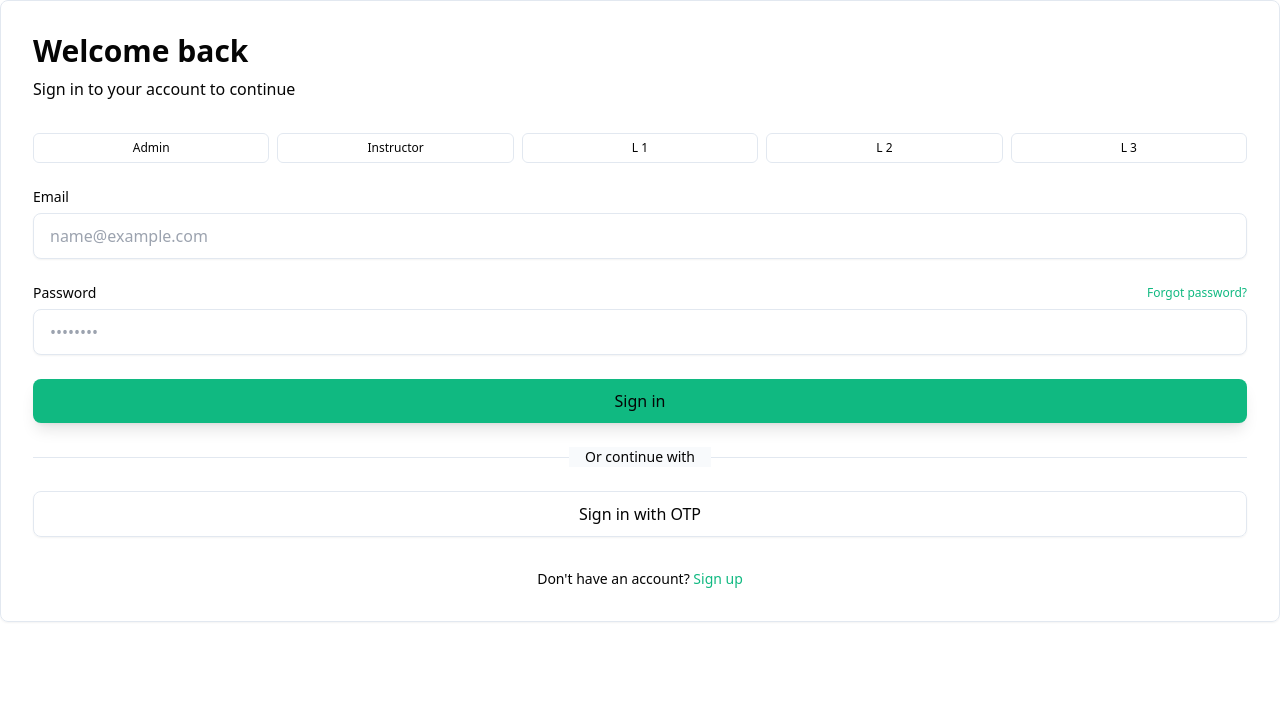
Scenario: Login 429 Handling › renders "Too many attempts" message when API returns 429
# Fill form using placeholders
In the field with placeholder "name@example.com": [640, 236] box [33,213,1247,259], type "test@example.com"
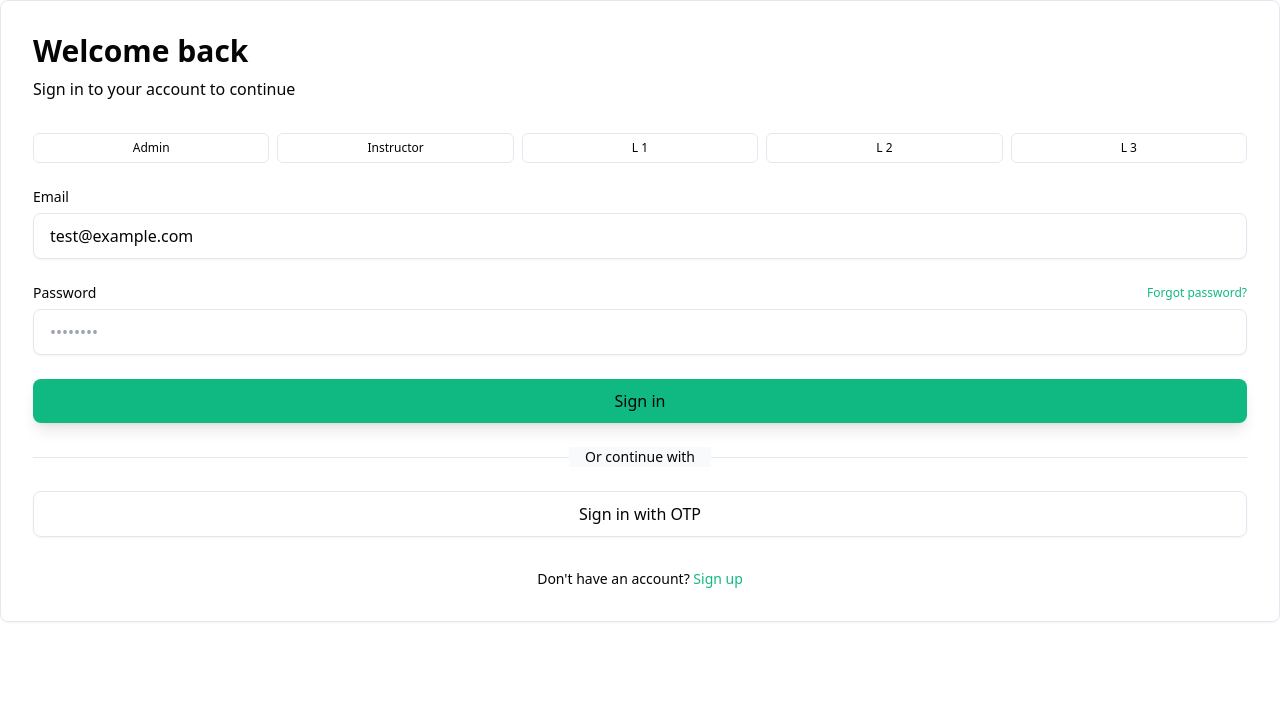
In the password field with placeholder "••••••••": [640, 332] box [33,309,1247,355], type "password123"
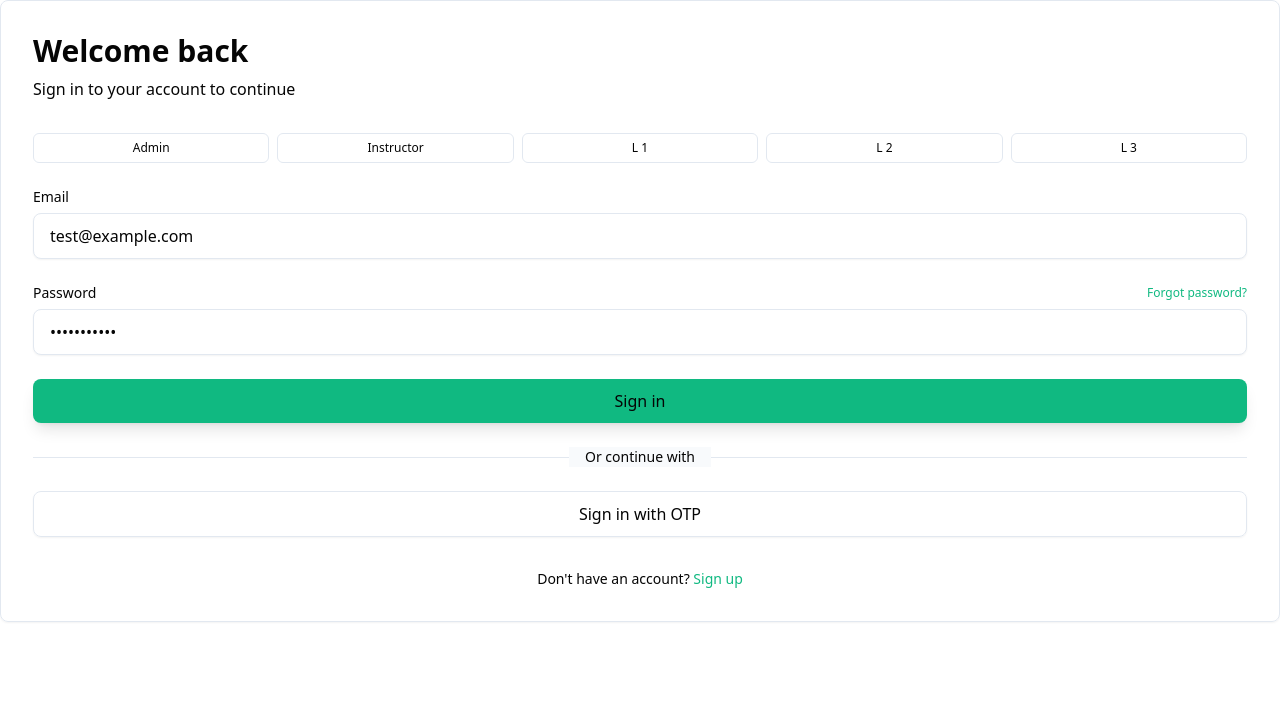
Click the button "Sign in": [640, 401] box [33,379,1247,423]
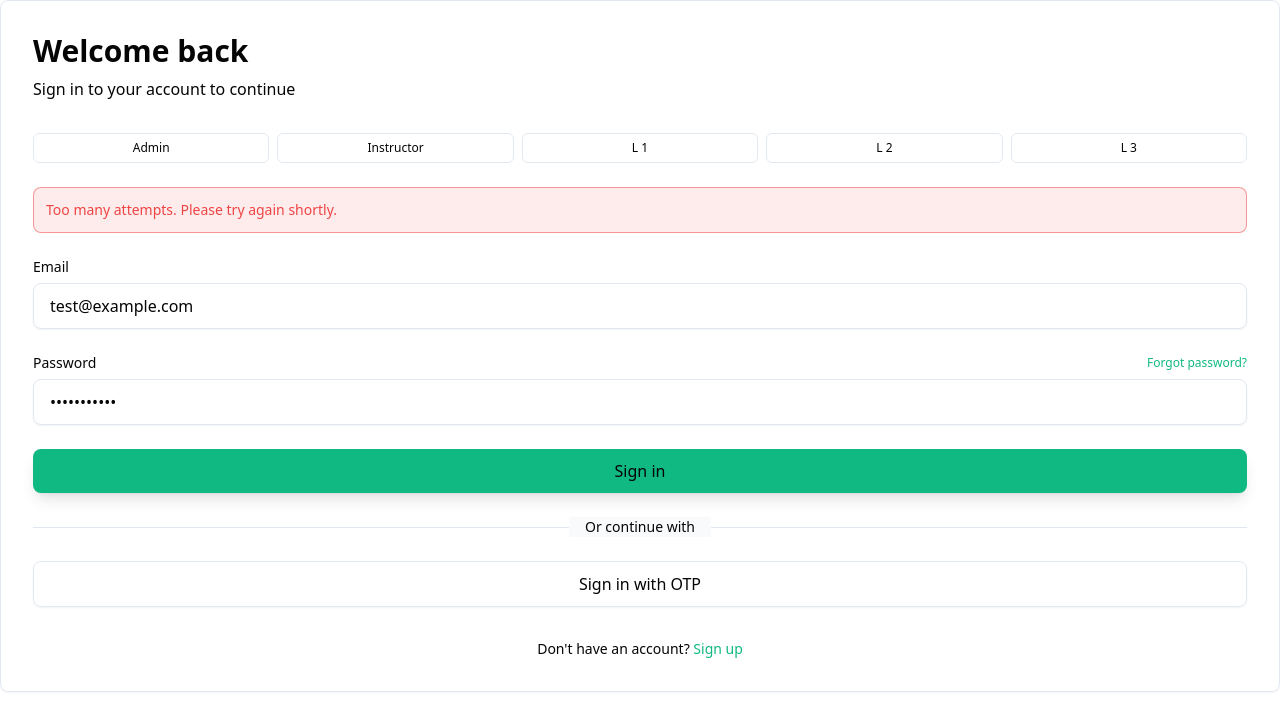
Expected: the text "Too many attempts. Please try again shortly." is shown, [33,187,1247,233]
